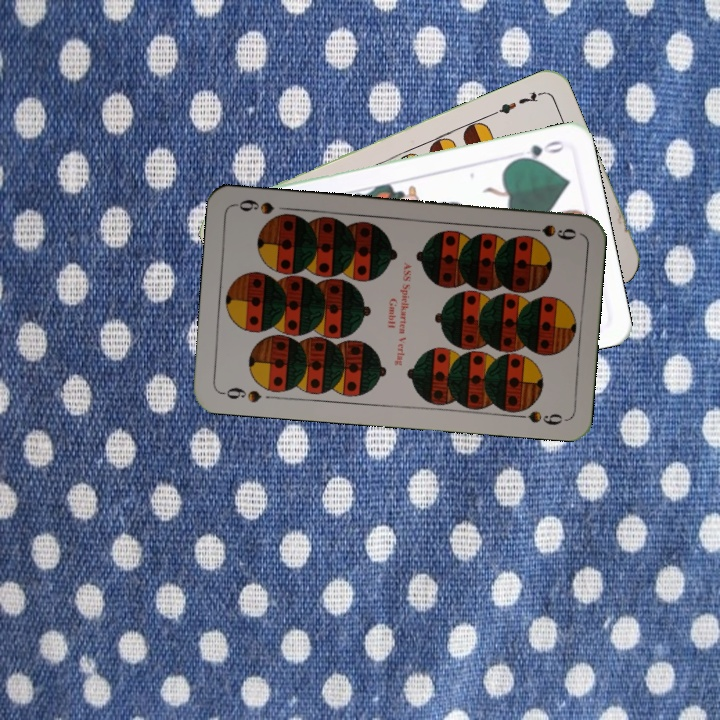E7: (489, 87, 546, 118)
GO: (510, 136, 567, 164)
S9: (521, 220, 578, 243), (217, 383, 263, 405)
